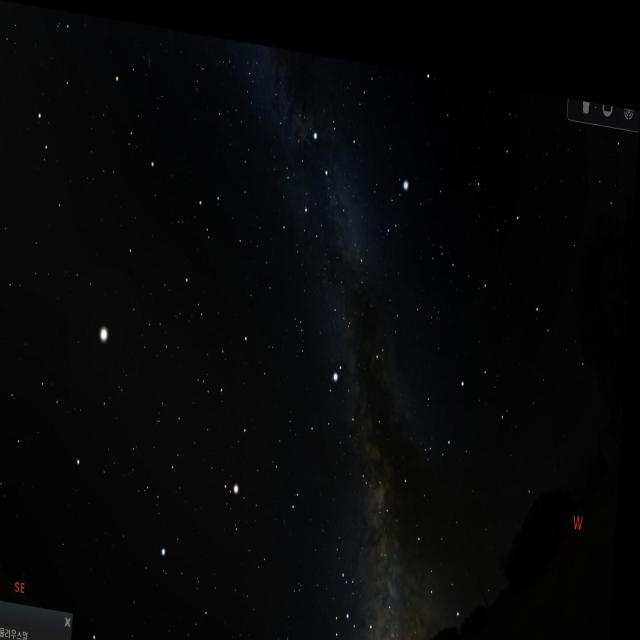aquila: (308, 343, 388, 482)
cygnus: (301, 117, 382, 286)
lyra: (378, 148, 412, 237)
